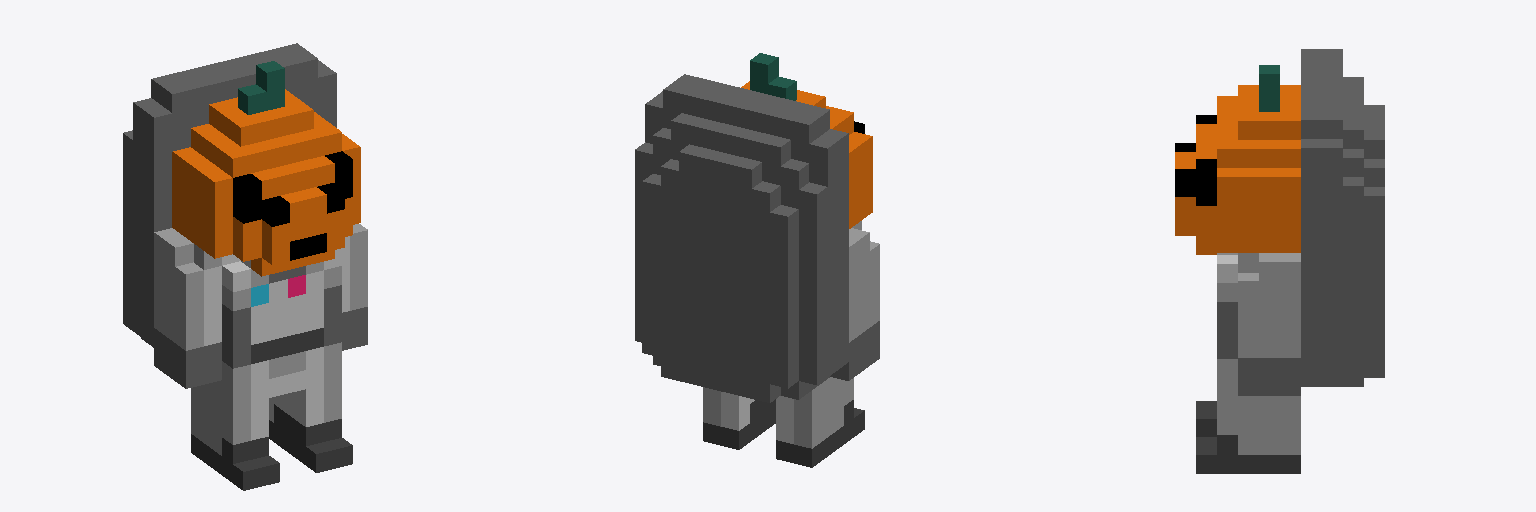
3 views of the same model, side by side, from view 1: azimuth 30°, elevation 25°; view 2: azimuth 150°, elevation 25°; view 3: azimuth 270°, elevation 25° (orthographic).
Parts seen in each view (by area): view 1: object 1; view 2: object 1; view 3: object 1.
Part boxes in pixels (x1,y1,x2,y2): object 1: (123,43,367,490); object 1: (635,53,879,467); object 1: (1175,49,1384,473).
Size of the model in its own units: 1 by 2 by 1.
Materials: 1 (1 with a texture image).